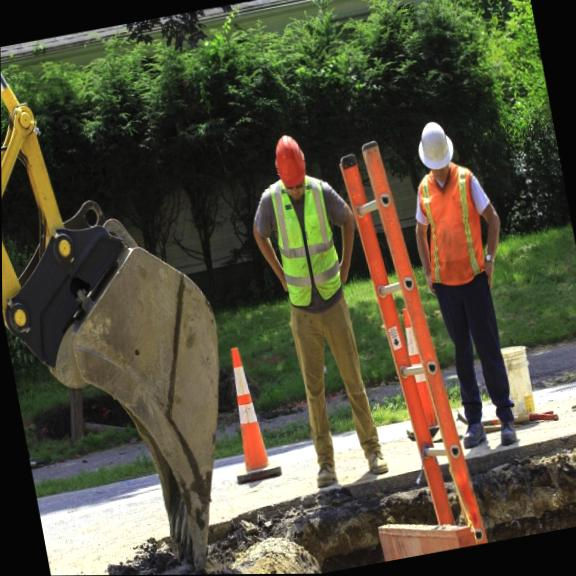safety_vest: (246, 167, 364, 308), (405, 163, 502, 290)
